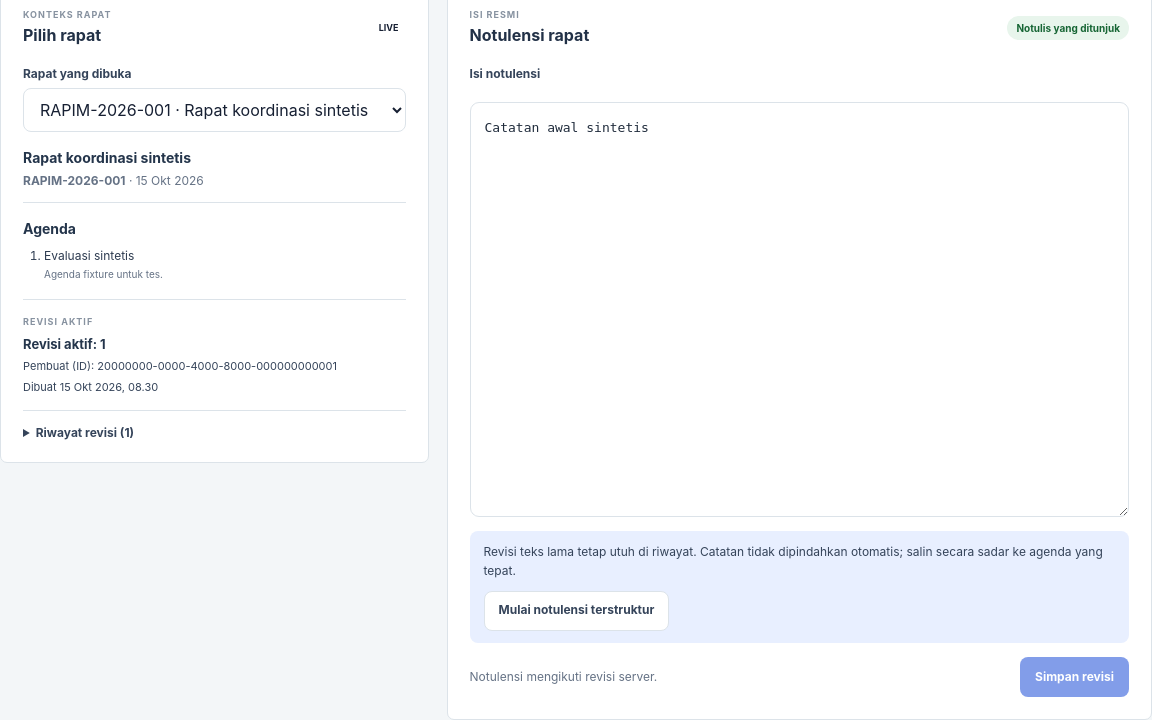
MinutesEditor › keeps legacy text readable when starting a structured revision without auto-assigning it
(page scrolled)
Expected: the text box labelled "Isi notulensi" is shown, [470,102,1129,517]
Click the button "Mulai notulensi terstruktur": (576, 611) [484,591,669,631]
(page scrolled)
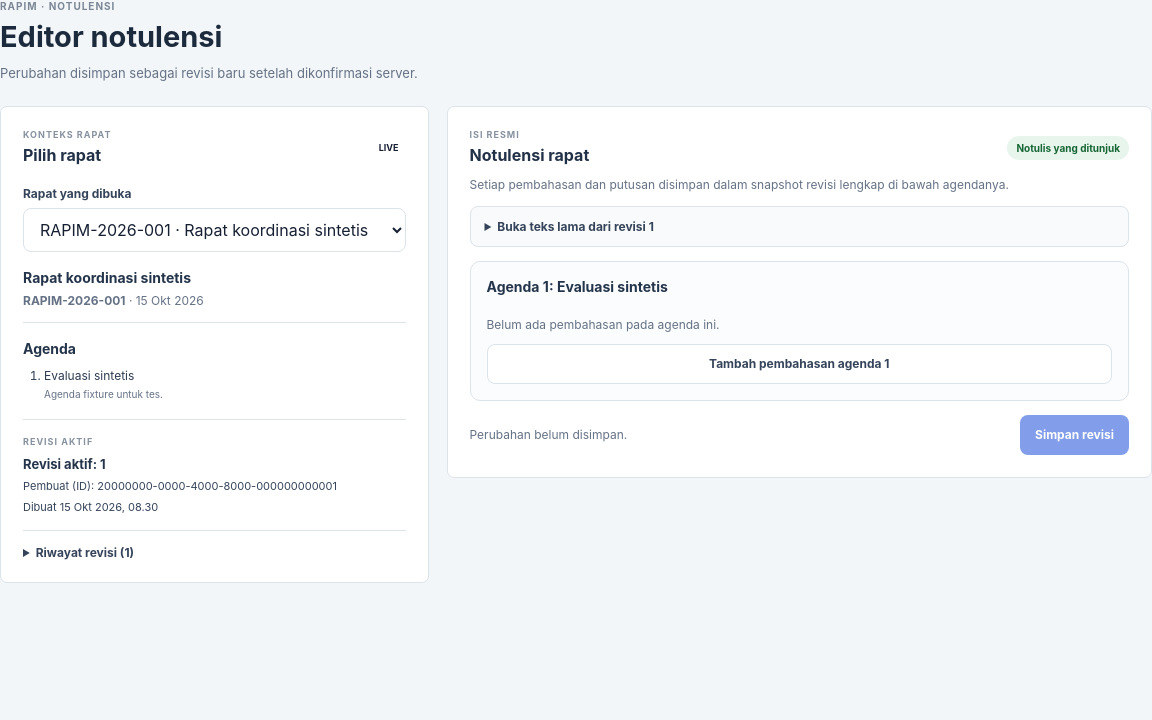
Result: the text "Belum ada pembahasan pada agenda ini." is shown at [486,316,720,332]
Result: the text "Perubahan belum disimpan." is shown at [470,427,627,442]
